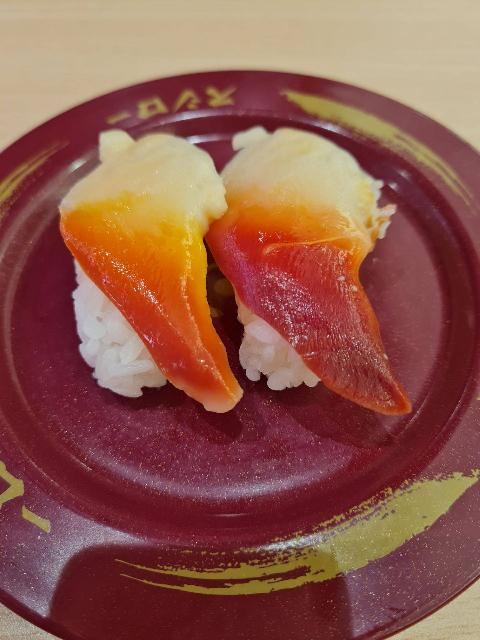janred: (0, 57, 480, 619)
